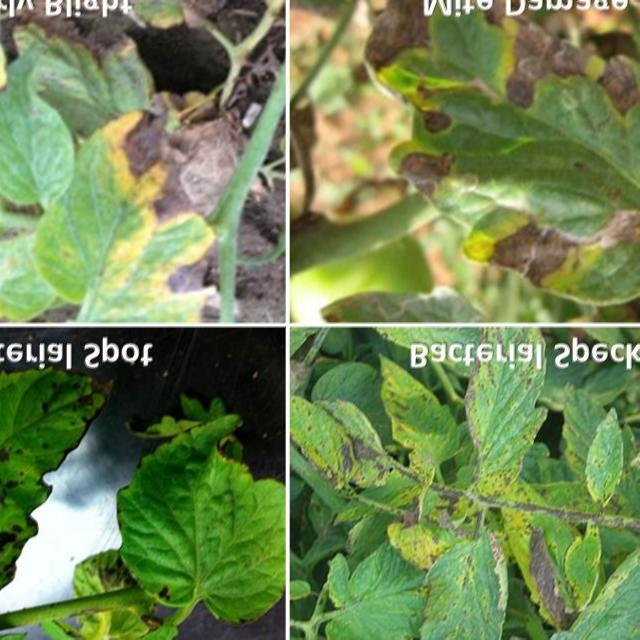Tomato leaf bacterial spot: (0, 0, 232, 312), (89, 385, 284, 616), (0, 346, 108, 614), (448, 332, 555, 520), (539, 490, 640, 640), (405, 514, 519, 640), (573, 410, 640, 527), (558, 529, 609, 620), (624, 335, 640, 488)
